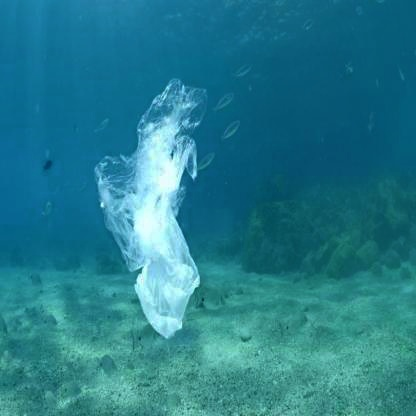pbag: (94, 78, 209, 341)
